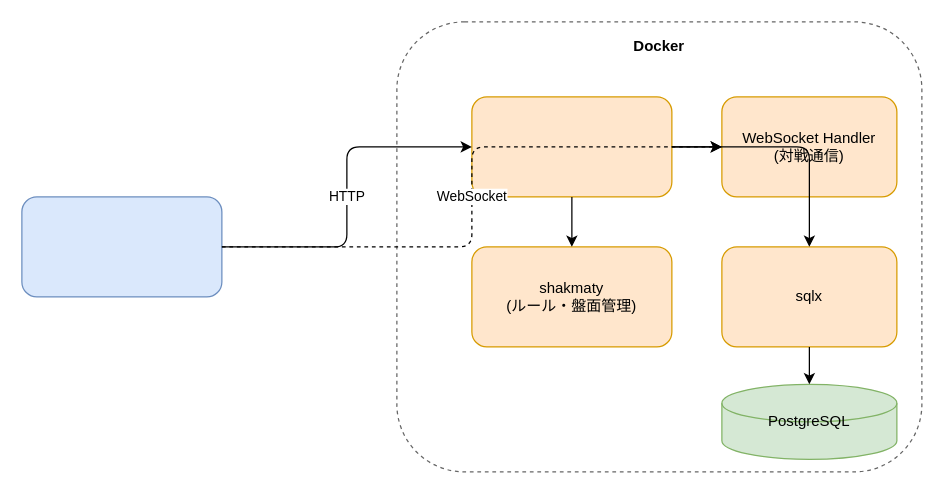
This 944x494 diagram has some shape labels left out. The centre of each missing label's shape, as x and y in pixels:
"Axum Server (Rust)" belongs at point (571, 146).
"Browser (React + Vite)" belongs at point (121, 246).
